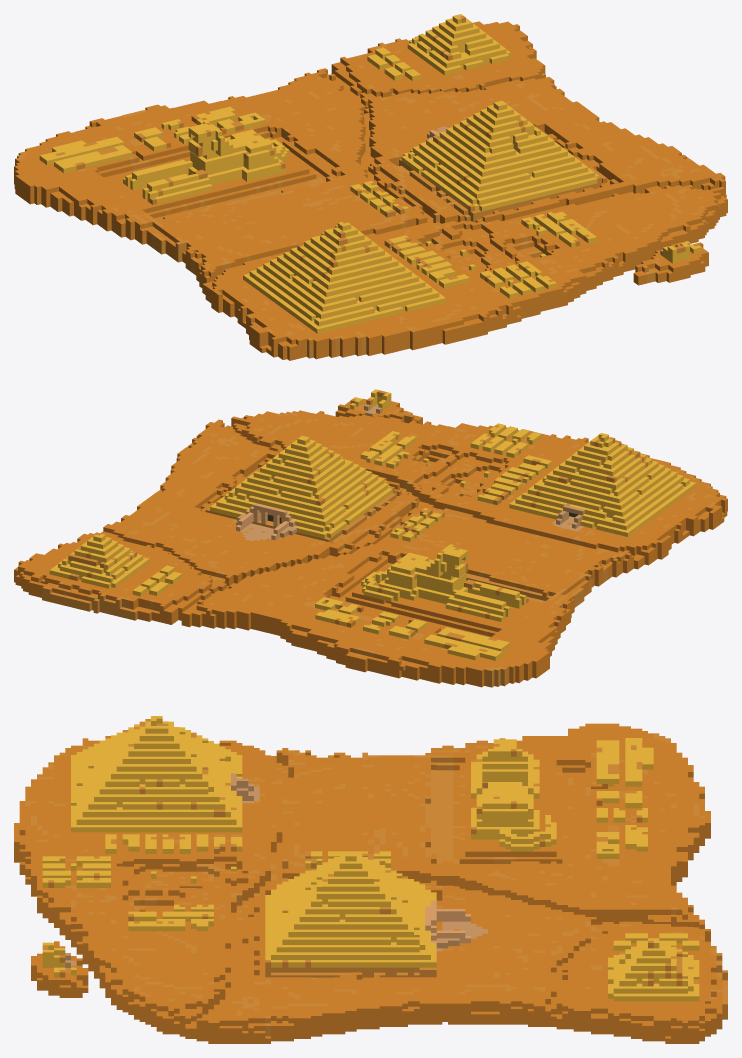
File: PyramidFinal.obj
3 views of the same model, one above another, from view 1: azimuth 30°, elevation 25°; view 2: azimuth 150°, elevation 25°; view 3: azimuth 270°, elevation 25° (orthographic). The views are drawn at different scales.
Bounding box in the file's own units: 12.4 × 1.9 × 12.5.
1 material, 1 textured.
